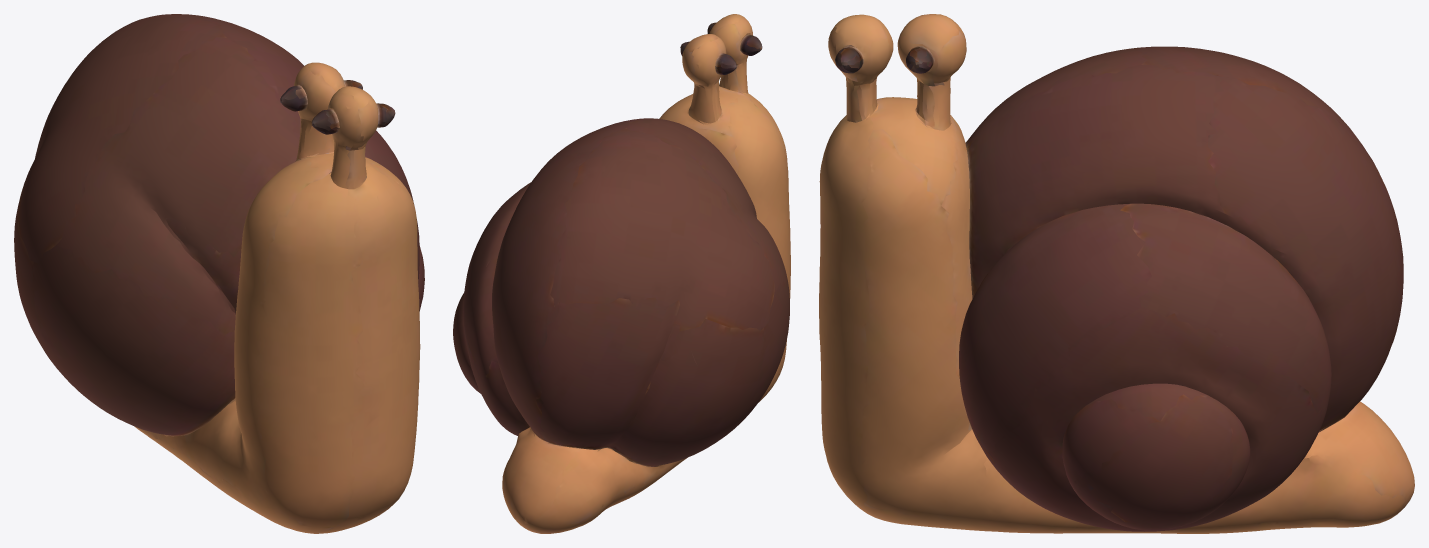
The model's file is snail.glb.
3 views of the same model, side by side, from view 1: azimuth 30°, elevation 25°; view 2: azimuth 150°, elevation 25°; view 3: azimuth 270°, elevation 25° (orthographic). The views are drawn at different scales.
Parts seen in each view (by area): view 1: Mesh; view 2: Mesh; view 3: Mesh.
Boxes of the visible parts, x1,y1,x2,y2 form: Mesh: (14,14,424,533); Mesh: (453,14,790,533); Mesh: (819,14,1414,533).
Bounding box in the file's own units: 0.7953 × 0.9282 × 1.
1 material, 1 textured.
